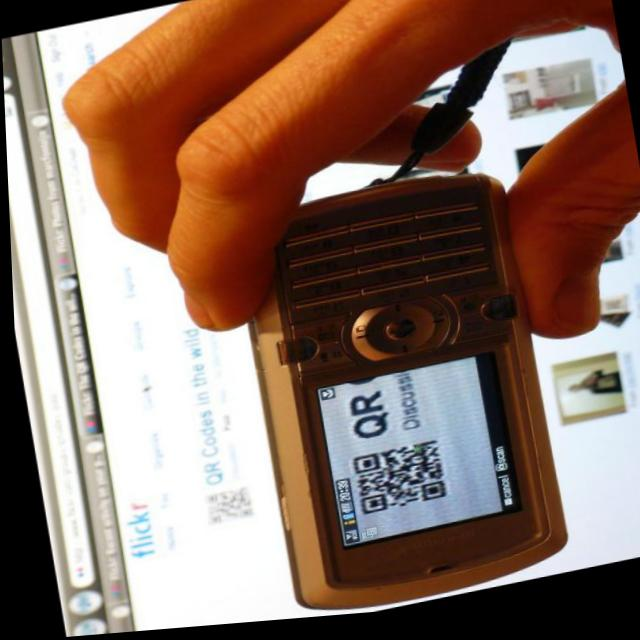qrcode: (348, 445, 442, 520), (201, 489, 248, 527)
